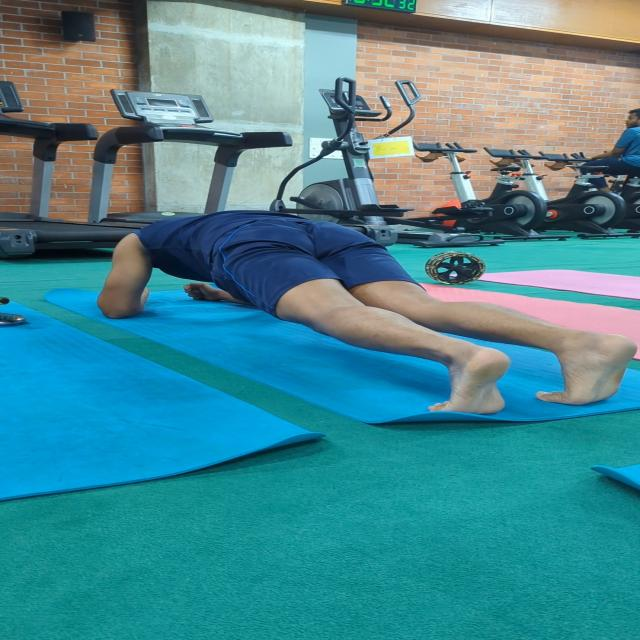Normal_Plunk: (89, 198, 640, 426)
